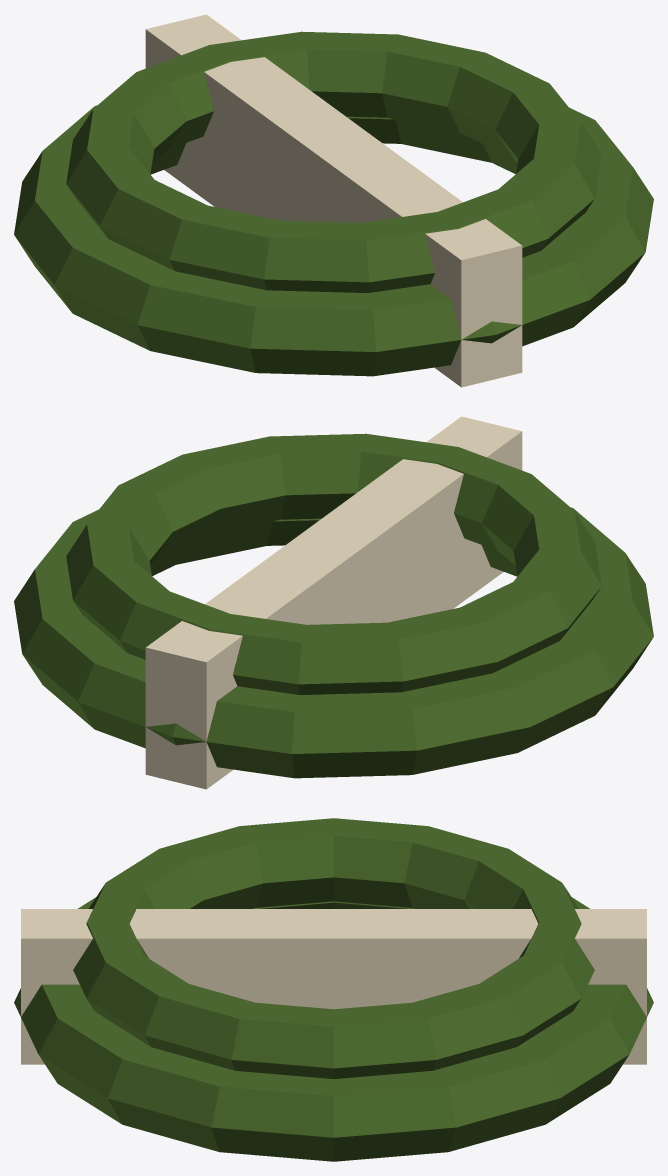
Rendered from fuses.glb.
3 views of the same model, one above another, from view 1: azimuth 30°, elevation 25°; view 2: azimuth 150°, elevation 25°; view 3: azimuth 270°, elevation 25° (orthographic).
Visible parts, largest first — view 1: fuse_fuse_green (×2), string_fuse_string; view 2: fuse_fuse_green (×2), string_fuse_string; view 3: fuse_fuse_green (×2), string_fuse_string.
Part boxes in pixels (x1,y1,x2,y2): fuse_fuse_green (×2): (14, 31, 653, 376); string_fuse_string: (145, 14, 522, 387); fuse_fuse_green (×2): (14, 433, 653, 778); string_fuse_string: (145, 416, 522, 789); fuse_fuse_green (×2): (14, 818, 653, 1161); string_fuse_string: (21, 909, 646, 1064).
Bounding box in the file's own units: 0.184 × 0.0404 × 0.184.
